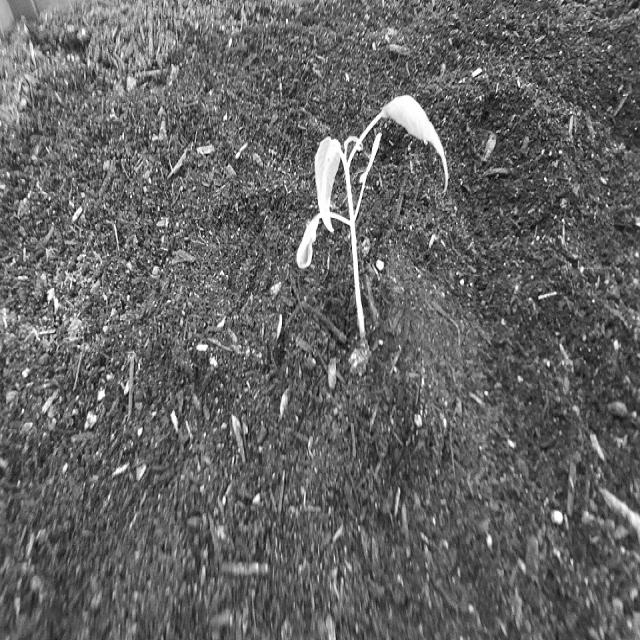Healthy: (295, 84, 451, 371)
